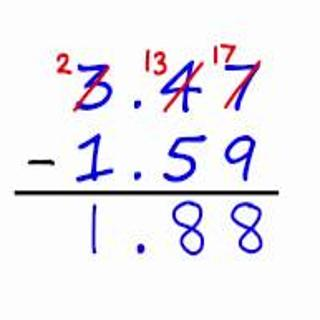.: (128, 235, 149, 260), (127, 163, 147, 186), (129, 90, 144, 116)
1: (70, 128, 117, 186), (84, 198, 106, 262)
5: (157, 130, 209, 184)
8: (163, 198, 210, 263), (227, 199, 269, 265)
9: (214, 129, 258, 185)
